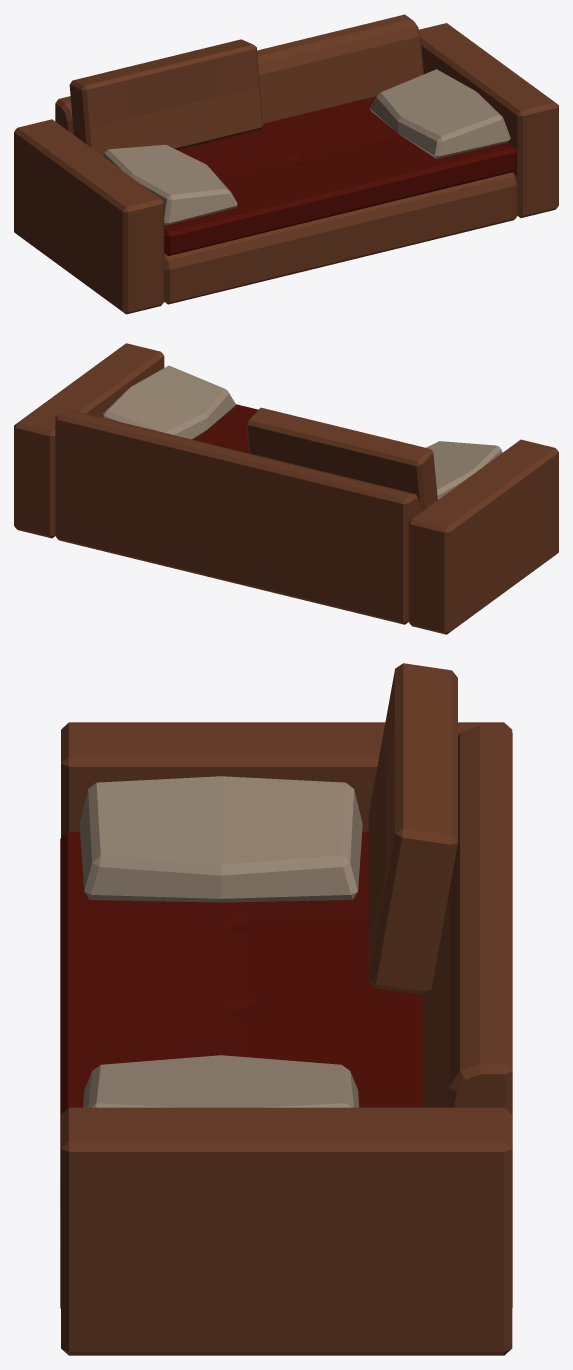
The model's file is Sofa.glb.
3 views of the same model, one above another, from view 1: azimuth 30°, elevation 25°; view 2: azimuth 150°, elevation 25°; view 3: azimuth 270°, elevation 25° (orthographic). The views are drawn at different scales.
Parts seen in each view (by area): view 1: Sofa, SofaSitzflaeche, SofaLehne, SofaKissen2, SofaKissen1; view 2: Sofa, SofaLehne, SofaKissen2, SofaKissen1, SofaSitzflaeche; view 3: Sofa, SofaSitzflaeche, SofaKissen1, SofaLehne, SofaKissen2.
Boxes of the visible parts, bbox=[...] form: Sofa: bbox=[14, 14, 558, 314]; SofaSitzflaeche: bbox=[164, 96, 517, 255]; SofaLehne: bbox=[69, 39, 263, 155]; SofaKissen2: bbox=[369, 69, 510, 158]; SofaKissen1: bbox=[103, 144, 237, 225]; Sofa: bbox=[14, 343, 558, 634]; SofaLehne: bbox=[246, 407, 437, 511]; SofaKissen2: bbox=[101, 365, 235, 439]; SofaKissen1: bbox=[426, 441, 502, 499]; SofaSitzflaeche: bbox=[193, 404, 257, 453]; Sofa: bbox=[60, 722, 512, 1355]; SofaSitzflaeche: bbox=[60, 832, 423, 1211]; SofaKissen1: bbox=[79, 776, 362, 902]; SofaLehne: bbox=[368, 663, 457, 994]; SofaKissen2: bbox=[83, 1055, 359, 1107].
Size of the model in its own units: 4.85 by 1.67 by 2.18.
